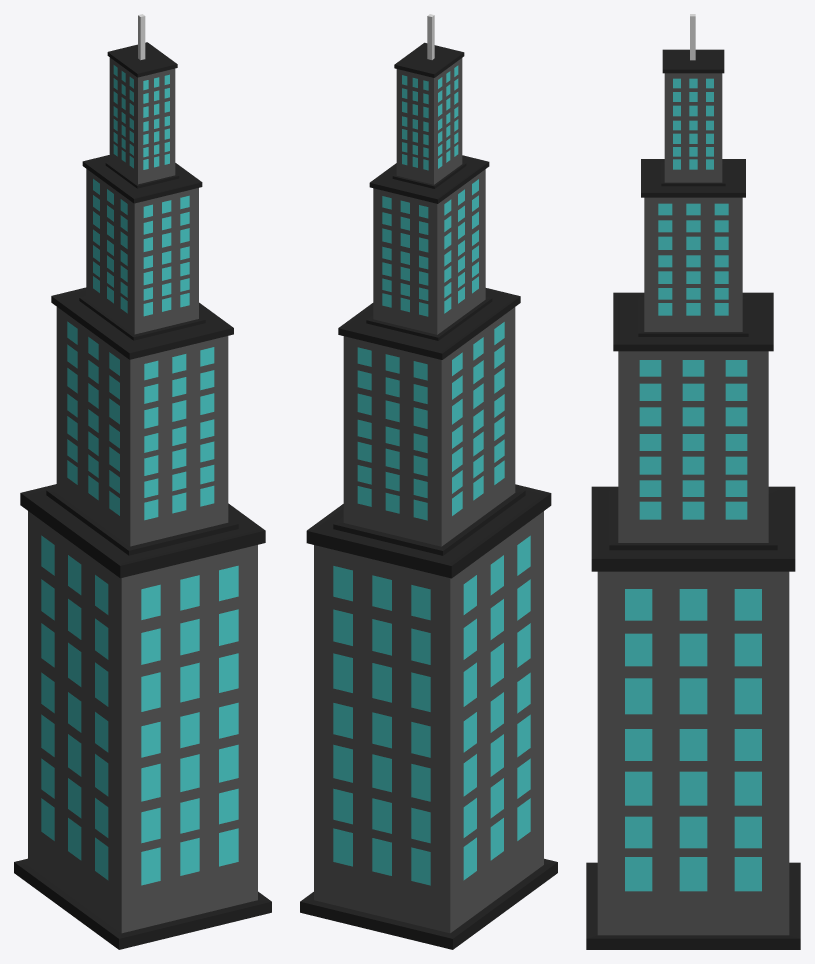
The model's file is Skyscraper1.fbx.
The picture shows the model from 3 angles, left to right: view 1: azimuth 30°, elevation 25°; view 2: azimuth 150°, elevation 25°; view 3: azimuth 270°, elevation 25°; orthographic projection. The views are drawn at different scales.
Visible parts, largest first — view 1: Cube, Cube.001, Cube.002, Cube.003; view 2: Cube, Cube.001, Cube.002, Cube.003; view 3: Cube, Cube.001, Cube.002, Cube.003.
Boxes of the visible parts, x1,y1,x2,y2 form: Cube: [14, 484, 271, 949]; Cube.001: [46, 287, 238, 555]; Cube.002: [79, 155, 205, 340]; Cube.003: [105, 42, 179, 188]; Cube: [300, 484, 557, 949]; Cube.001: [333, 288, 525, 555]; Cube.002: [366, 155, 492, 340]; Cube.003: [392, 42, 466, 188]; Cube: [586, 486, 800, 949]; Cube.001: [609, 292, 777, 550]; Cube.002: [638, 159, 748, 336]; Cube.003: [661, 49, 725, 186].
Size of the model in its own units: 2175 by 11937 by 2590.
